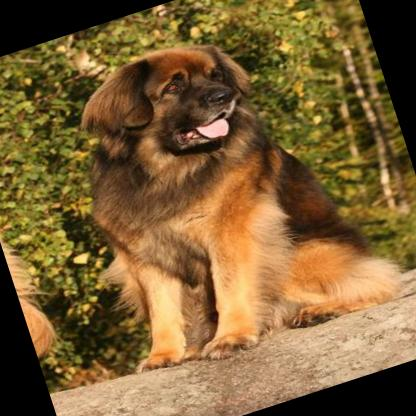Leonberg: (48, 0, 414, 384)
